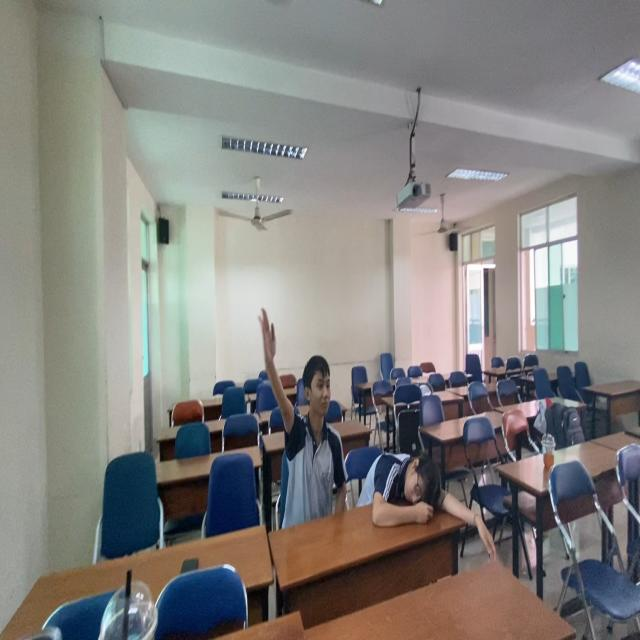raise_hand: (257, 306, 343, 531)
sleep: (357, 438, 473, 548)
